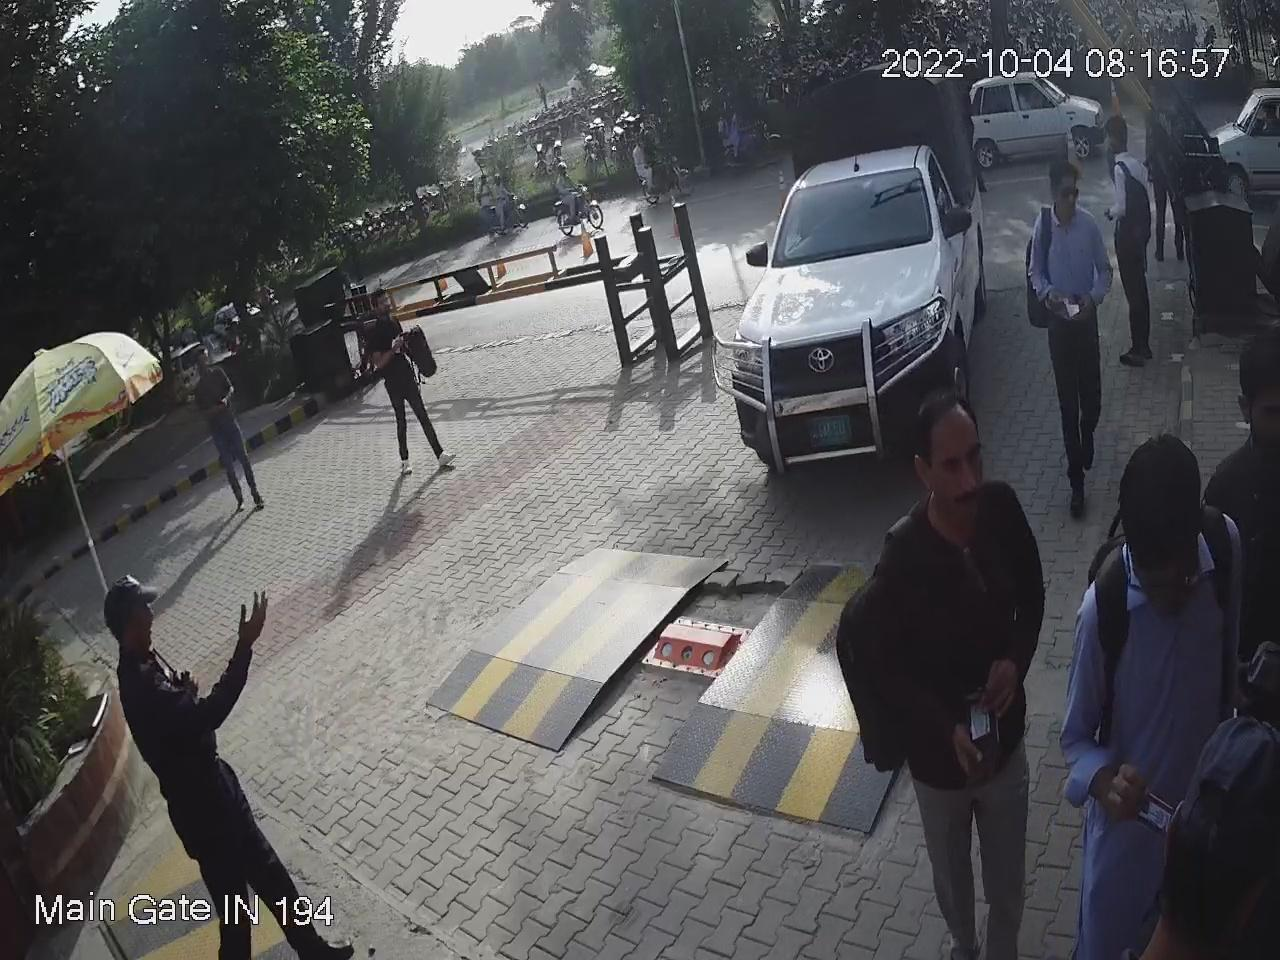windshield: (763, 157, 938, 277)
